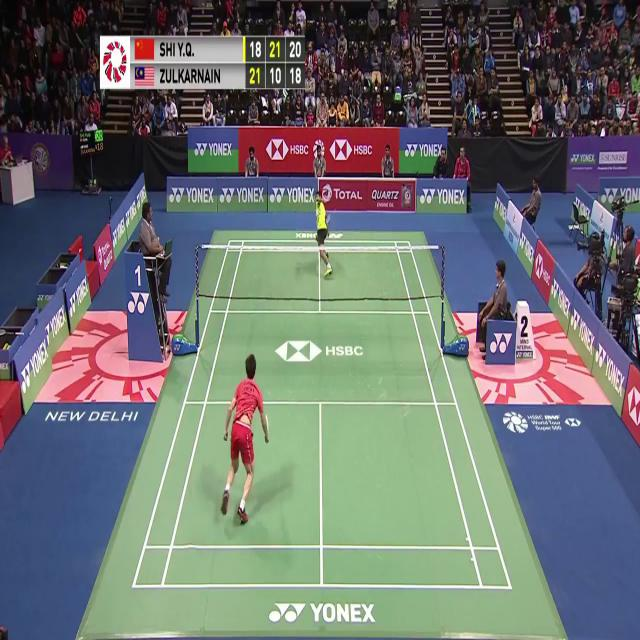Shuttlecock: (295, 184, 301, 195)
